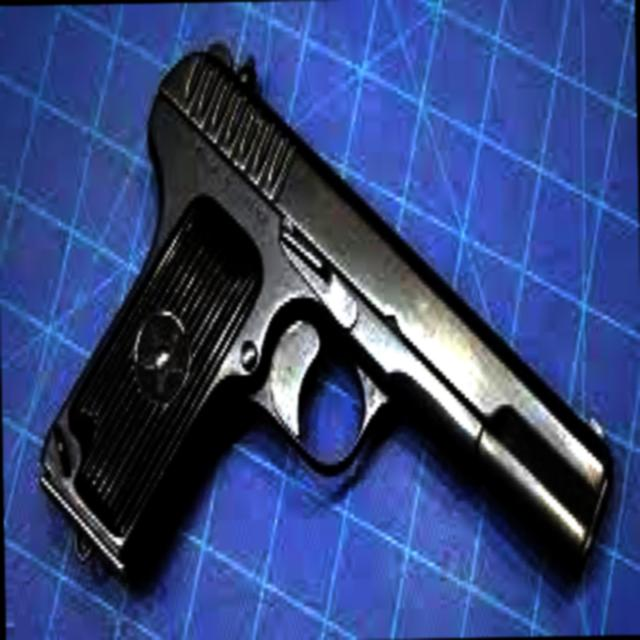semi automatic: (11, 10, 632, 623), (15, 14, 632, 629)
